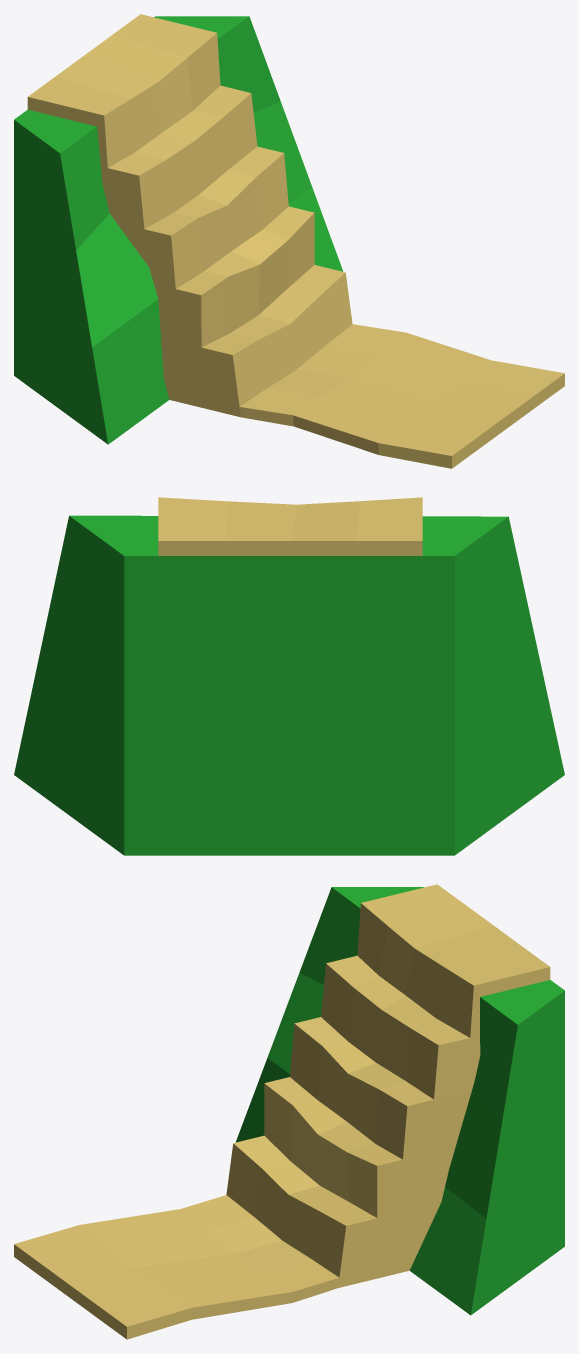
The model's file is module-corner_land_cliff_small_stairs.glb.
3 renders of one model, top to bottom at view 1: azimuth 30°, elevation 25°; view 2: azimuth 150°, elevation 25°; view 3: azimuth 270°, elevation 25°, orthographic. The views are drawn at different scales.
Parts seen in each view (by area): view 1: module-corner_land_cliff_small_stairs; view 2: module-corner_land_cliff_small_stairs; view 3: module-corner_land_cliff_small_stairs.
Part boxes in pixels (<box>): module-corner_land_cliff_small_stairs: <box>14,14,564,468</box>; module-corner_land_cliff_small_stairs: <box>14,497,564,855</box>; module-corner_land_cliff_small_stairs: <box>14,884,564,1339</box>.
Size of the model in its own units: 0.8227 by 0.525 by 0.975.
